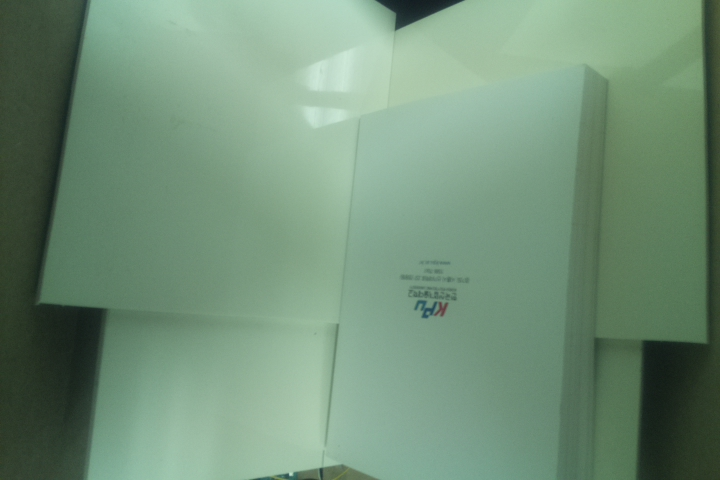book: (323, 60, 613, 480)
